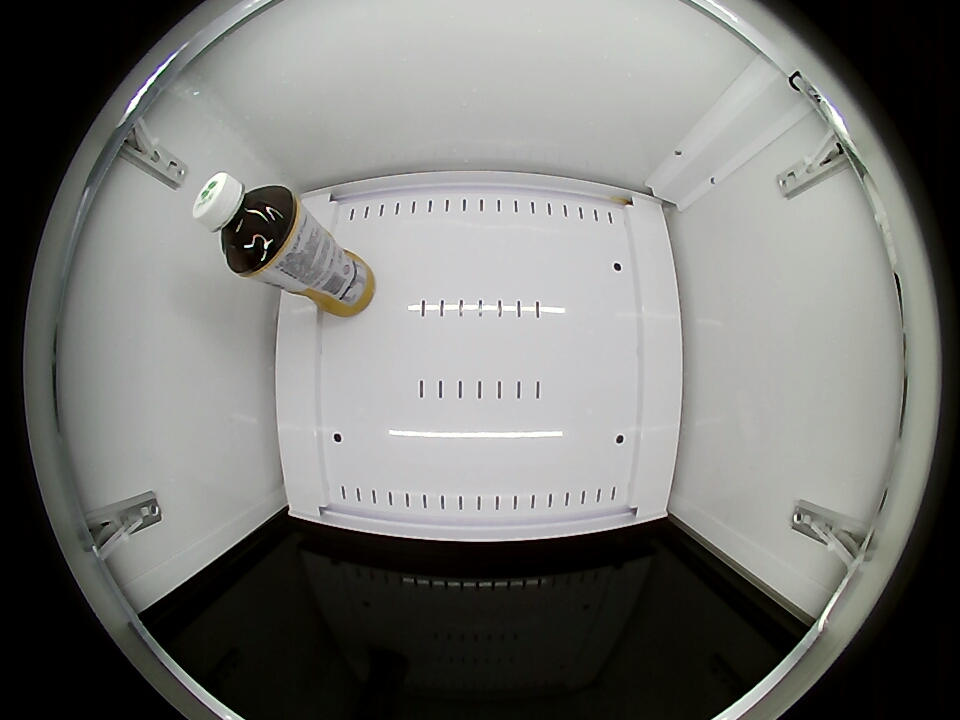damaicha: (193, 172, 296, 274)
